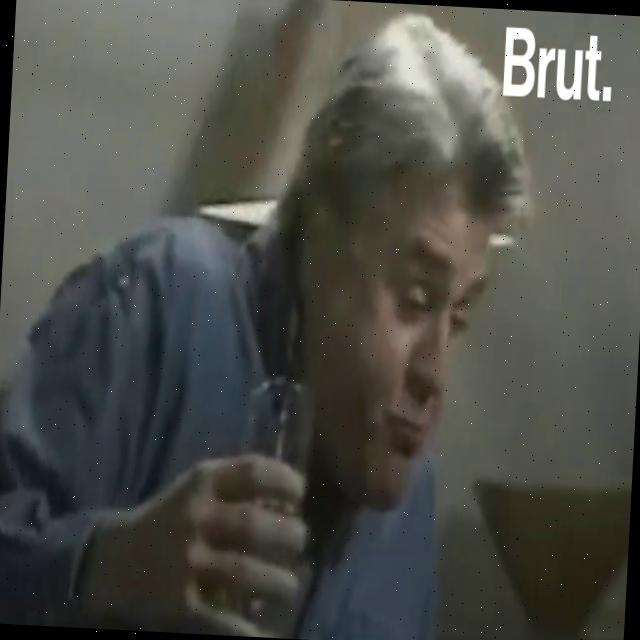spit: (331, 152, 603, 572)
